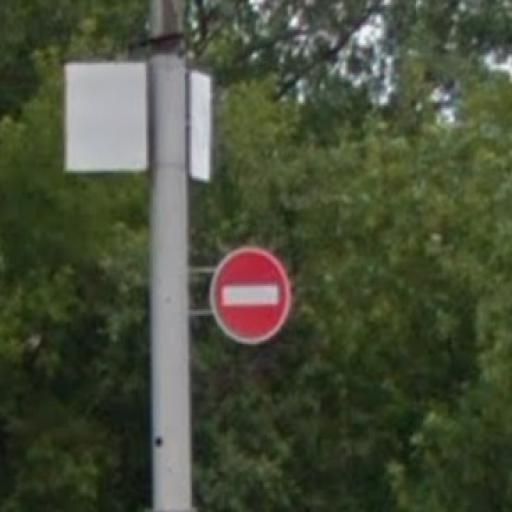traffic_sign: (207, 242, 296, 350)
